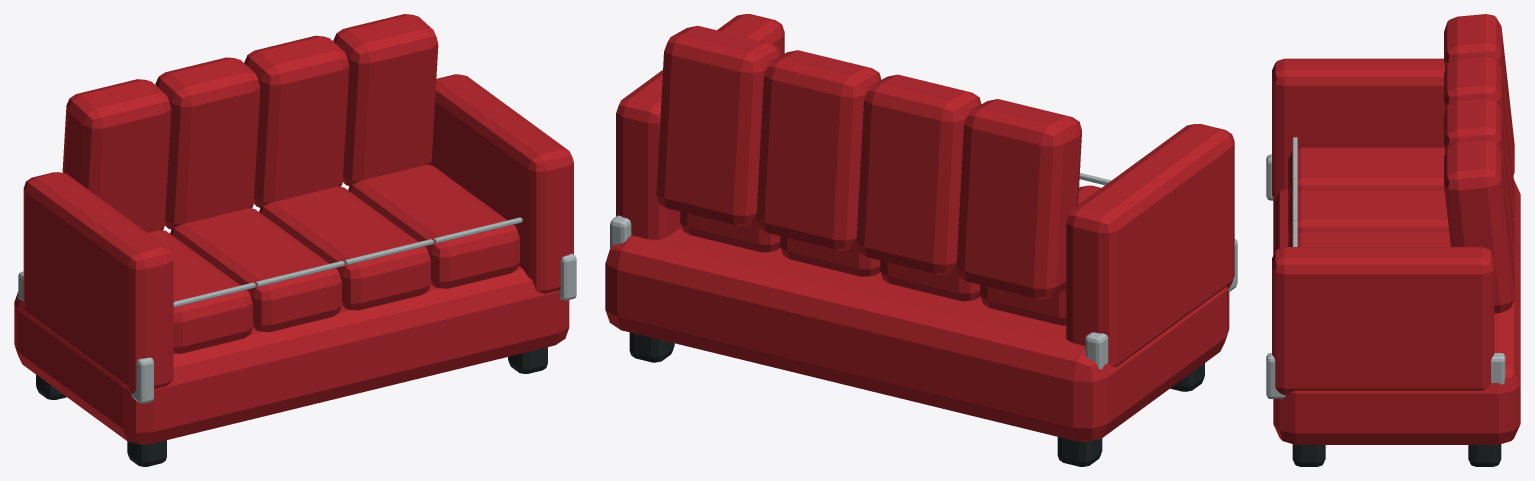
Rendered from better.glb.
3 views of the same model, side by side, from view 1: azimuth 30°, elevation 25°; view 2: azimuth 150°, elevation 25°; view 3: azimuth 270°, elevation 25° (orthographic). The views are drawn at different scales.
Parts seen in each view (by area): view 1: Armrest, Armoured rail, Sofa foot; view 2: Armrest, Sofa foot, Armoured rail; view 3: Armrest, Armoured rail, Sofa foot.
Part boxes in pixels (<box>): Armrest: <box>14,14,573,444</box>; Armoured rail: <box>18,217,576,403</box>; Sofa foot: <box>36,347,547,466</box>; Armrest: <box>605,14,1234,441</box>; Sofa foot: <box>629,332,1204,466</box>; Armoured rail: <box>610,173,1237,369</box>; Armrest: <box>1272,14,1520,444</box>; Armoured rail: <box>1266,137,1505,398</box>; Sofa foot: <box>1292,444,1501,466</box>.
Size of the model in its own units: 2 by 1.26 by 1.03.
